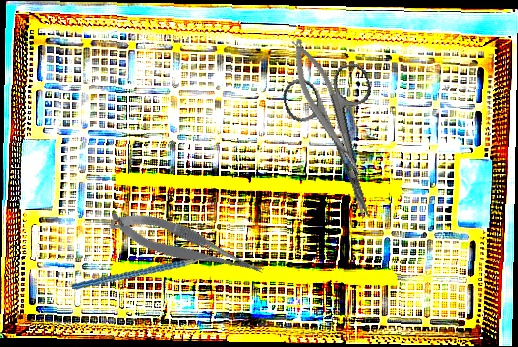Chopper: (71, 228, 224, 307)
Iris Scissors: (279, 60, 405, 231)
Micro Scissor: (105, 196, 268, 297)
Needle Holder: (282, 32, 369, 185)
